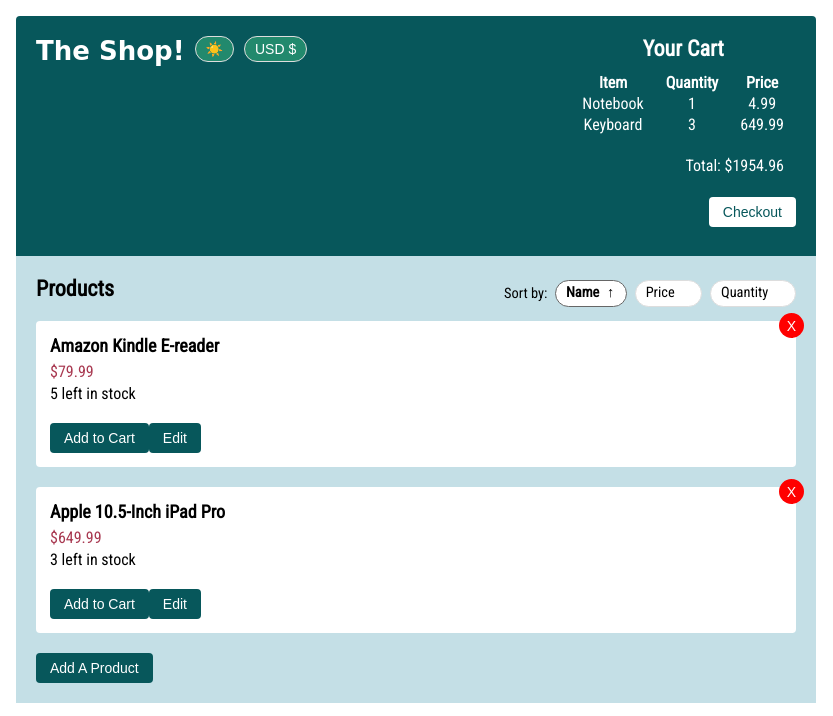
deletes a product
Expected: the heading "Amazon Kindle E-reader" is shown, 50,335 -> 219,356
Click the button "X" in the row of "Amazon Kindle E-reader". click: (792, 326)
box: 779,313 -> 804,338
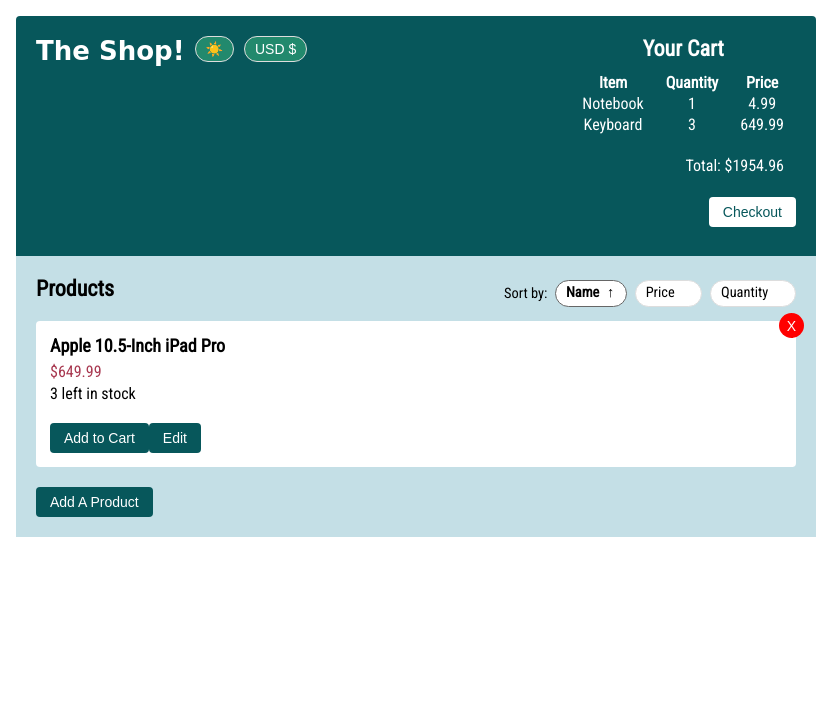
Expected: the heading "Kindle E-reader" is gone
